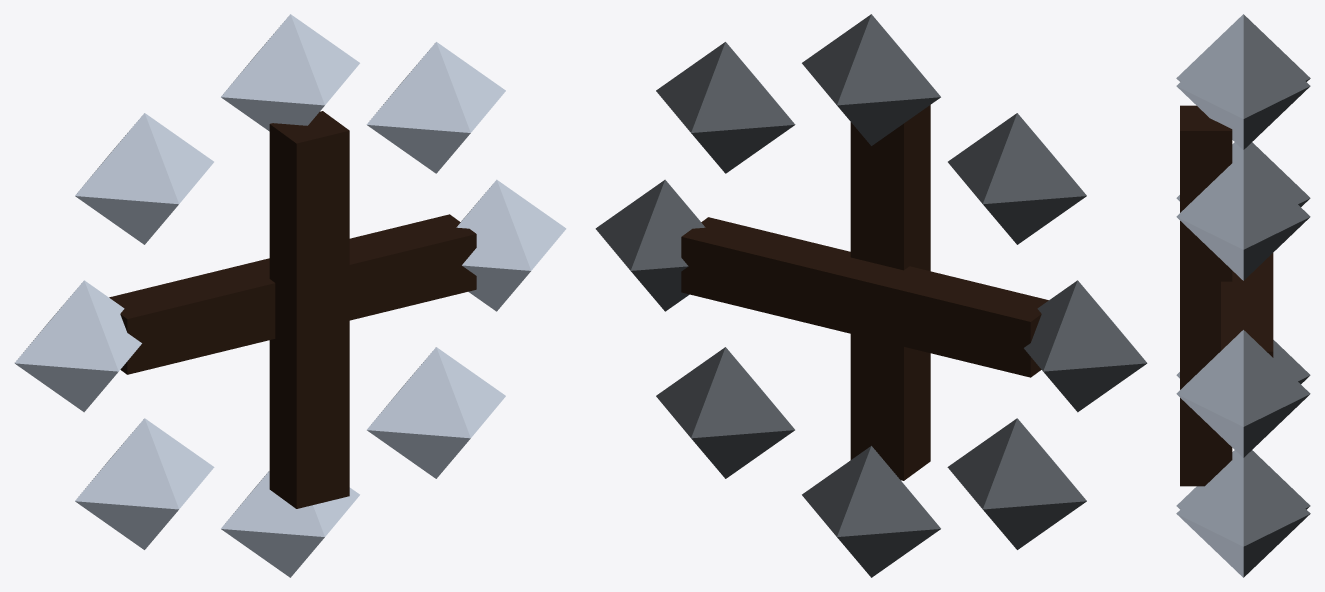
The model's file is Northern_Stone_Firepit.obj.
The picture shows the model from 3 angles, left to right: view 1: azimuth 30°, elevation 25°; view 2: azimuth 150°, elevation 25°; view 3: azimuth 270°, elevation 25°; orthographic projection. The views are drawn at different scales.
Parts seen in each view (by area): view 1: Northern_Stone_Firepit; view 2: Northern_Stone_Firepit; view 3: Northern_Stone_Firepit.
Part boxes in pixels (x1=…): Northern_Stone_Firepit: x1=14, y1=14, x2=566, y2=577; Northern_Stone_Firepit: x1=595, y1=14, x2=1147, y2=577; Northern_Stone_Firepit: x1=1176, y1=14, x2=1310, y2=577.
Size of the model in its own units: 166 by 162 by 36.
